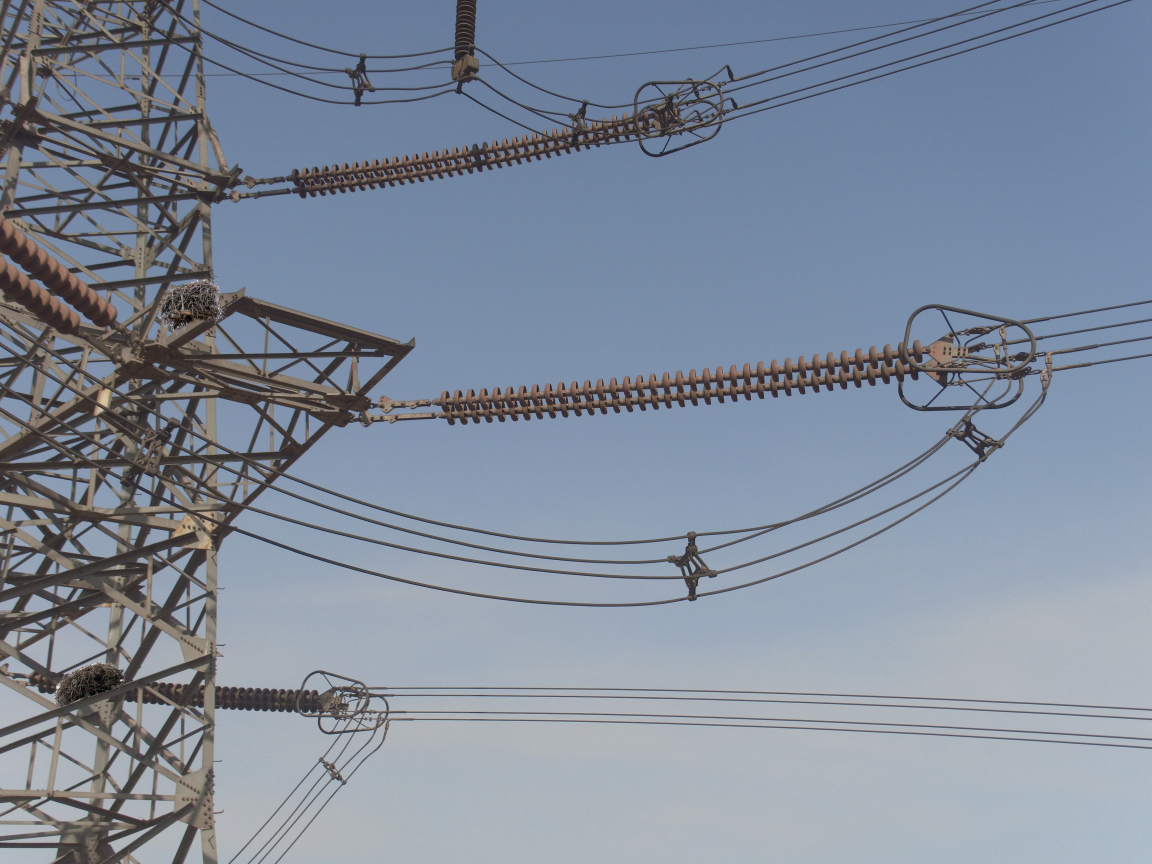nest: (56, 657, 125, 707), (153, 285, 223, 327)
